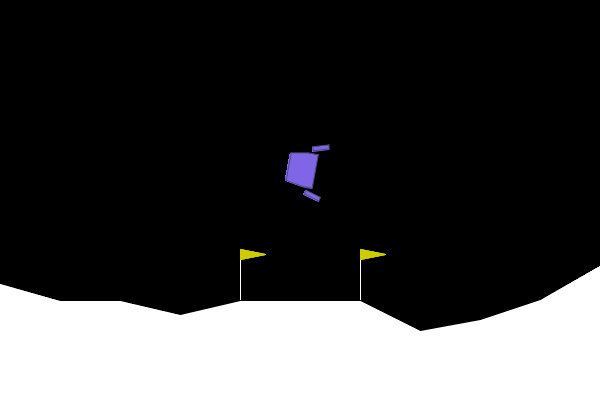lander: (281, 137, 331, 203)
